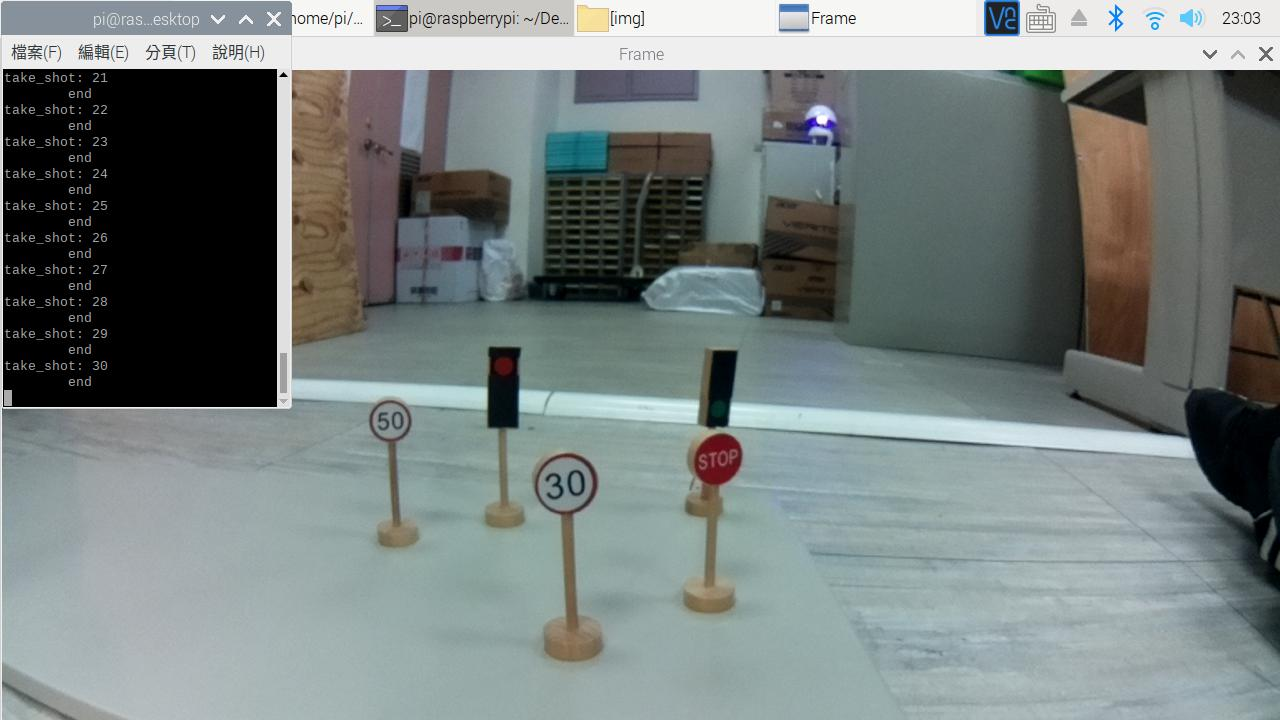Green: (703, 346, 729, 425)
Red: (485, 346, 519, 429)
Speed30: (527, 449, 599, 514)
Speed50: (368, 396, 412, 438)
Stop: (689, 431, 744, 481)
